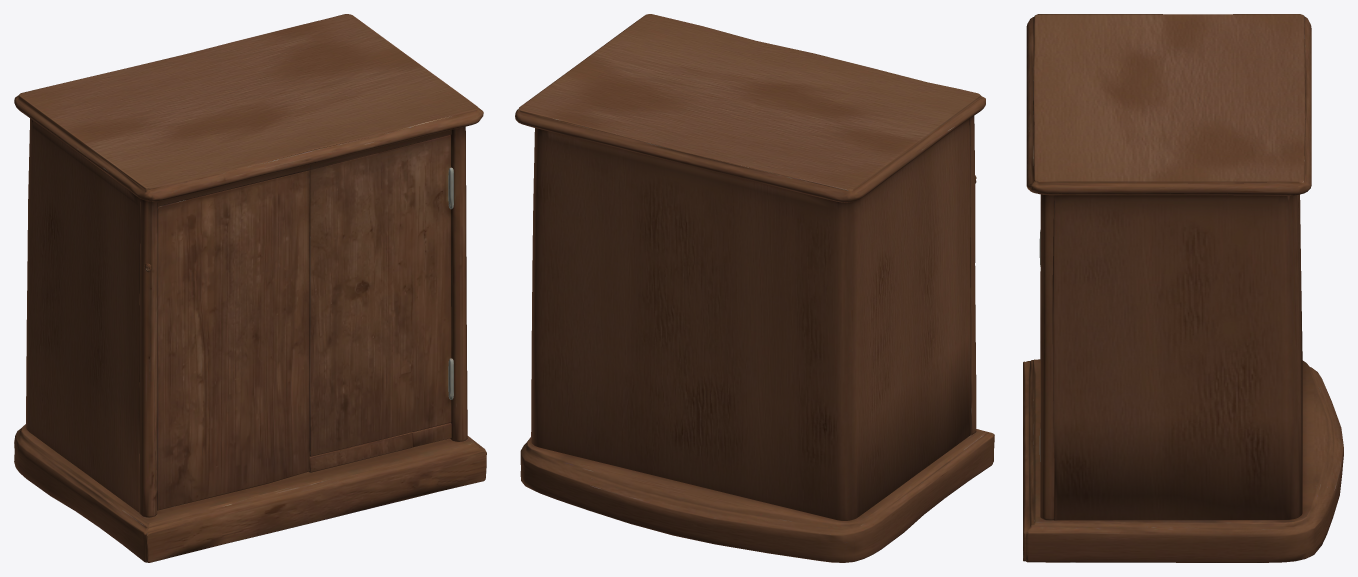
Rendered from cartridge-table.glb.
3 views of the same model, side by side, from view 1: azimuth 30°, elevation 25°; view 2: azimuth 150°, elevation 25°; view 3: azimuth 270°, elevation 25° (orthographic). The views are drawn at different scales.
Parts seen in each view (by area): view 1: tripo_node_74518be1-b573-43eb-9295-3092195bfb79; view 2: tripo_node_74518be1-b573-43eb-9295-3092195bfb79; view 3: tripo_node_74518be1-b573-43eb-9295-3092195bfb79.
Boxes of the visible parts, left/top/right/bottom form: tripo_node_74518be1-b573-43eb-9295-3092195bfb79: left=14, top=14, right=486, bottom=562; tripo_node_74518be1-b573-43eb-9295-3092195bfb79: left=515, top=14, right=994, bottom=562; tripo_node_74518be1-b573-43eb-9295-3092195bfb79: left=1023, top=14, right=1343, bottom=562.
Size of the model in its own units: 0.83 by 0.8396 by 0.64.
1 material, 1 textured.
